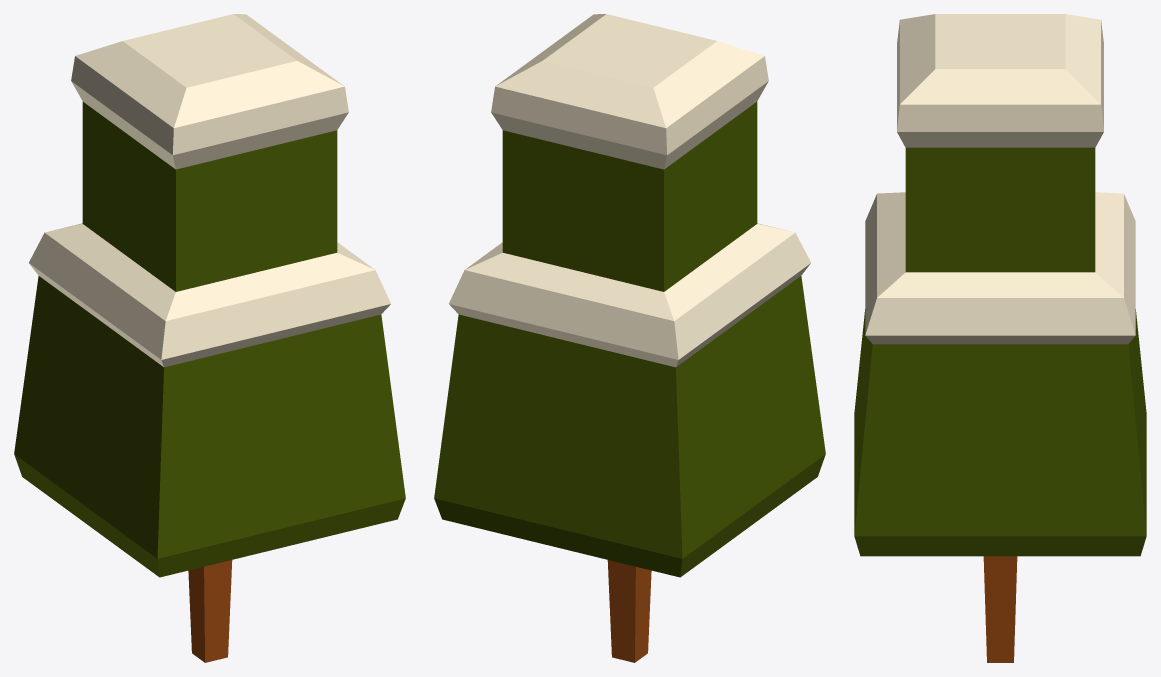
Rendered from Tree_36_Winter.fbx.
3 renders of one model, left to right at view 1: azimuth 30°, elevation 25°; view 2: azimuth 150°, elevation 25°; view 3: azimuth 270°, elevation 25°, orthographic.
Parts seen in each view (by area): view 1: Tree_36_Winter; view 2: Tree_36_Winter; view 3: Tree_36_Winter.
Part boxes in pixels (left/top/right/bottom): Tree_36_Winter: left=14, top=14, right=405, bottom=662; Tree_36_Winter: left=434, top=14, right=825, bottom=662; Tree_36_Winter: left=854, top=14, right=1146, bottom=662.
Size of the model in its own units: 154 by 357 by 154.
